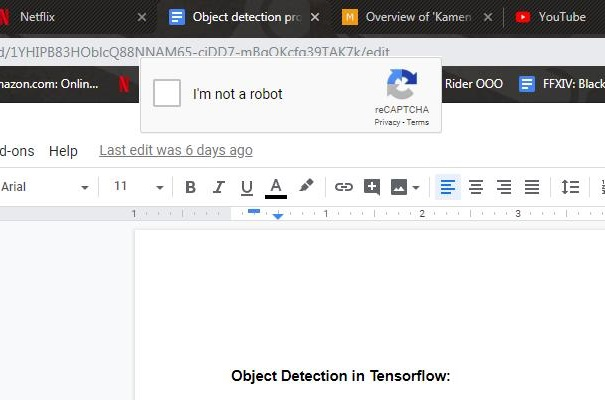captcha: (153, 79, 289, 107)
